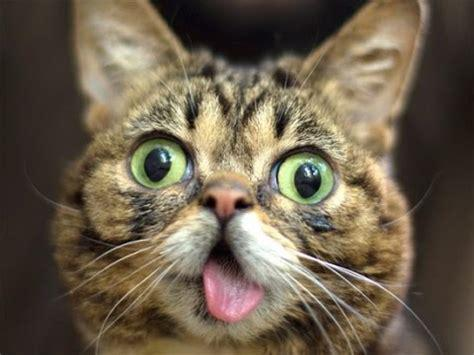cat: (53, 1, 426, 355)
